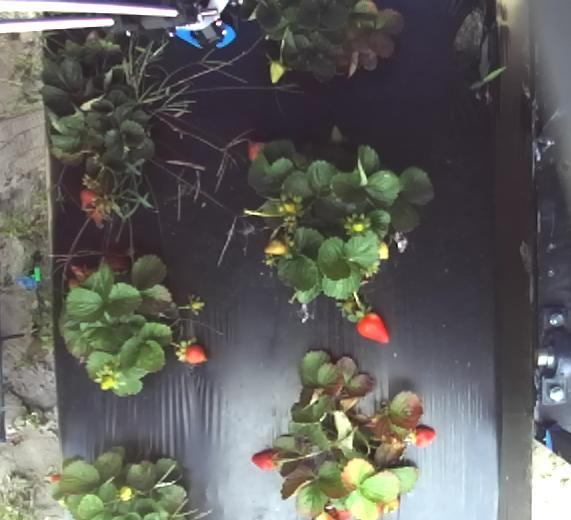leaves: (261, 237, 292, 262), (181, 340, 208, 367), (244, 133, 266, 166), (266, 57, 288, 85), (117, 478, 137, 503), (353, 214, 371, 238), (377, 243, 395, 265)
mature: (353, 307, 391, 345), (312, 496, 362, 520), (335, 362, 364, 399), (249, 444, 281, 472), (395, 389, 419, 426), (94, 369, 127, 395), (67, 259, 97, 287), (413, 421, 438, 454), (112, 246, 133, 280), (82, 186, 105, 212)
